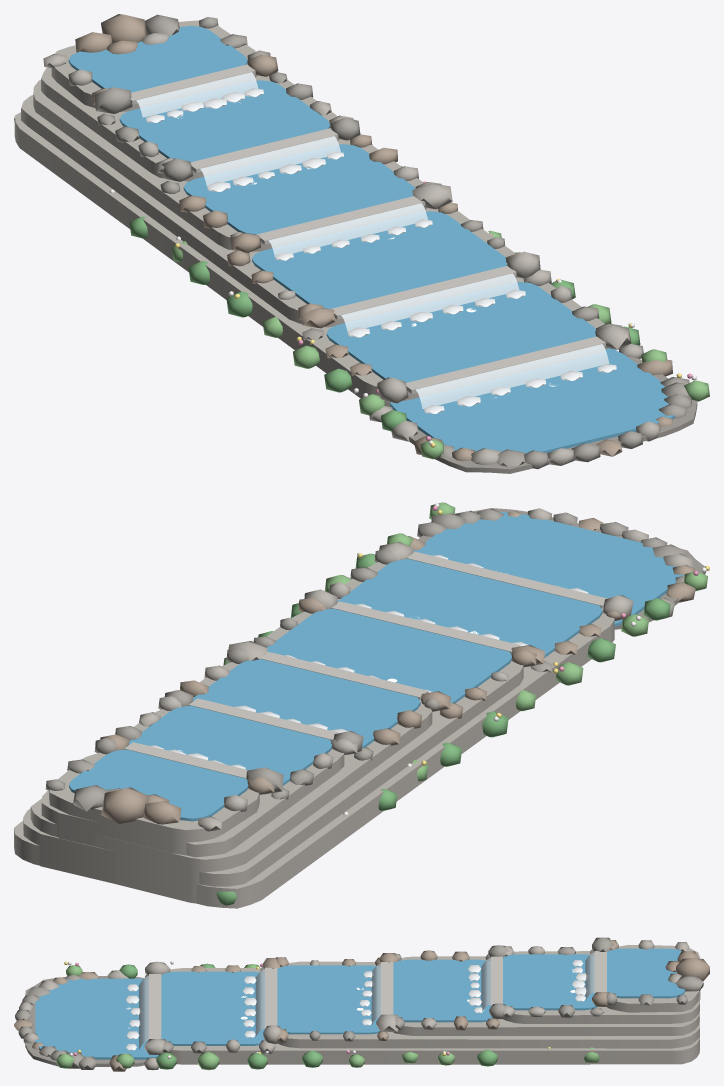
3 views of the same model, one above another, from view 1: azimuth 30°, elevation 25°; view 2: azimuth 150°, elevation 25°; view 3: azimuth 270°, elevation 25° (orthographic). The views are drawn at different scales.
Visible parts, largest first — view 1: base; view 2: base; view 3: base.
Boxes of the visible parts, x1,y1,x2,y2 form: base: [14, 14, 709, 473]; base: [14, 502, 709, 908]; base: [14, 937, 709, 1071].
Size of the model in its own units: 7.61 by 2.53 by 22.8.
